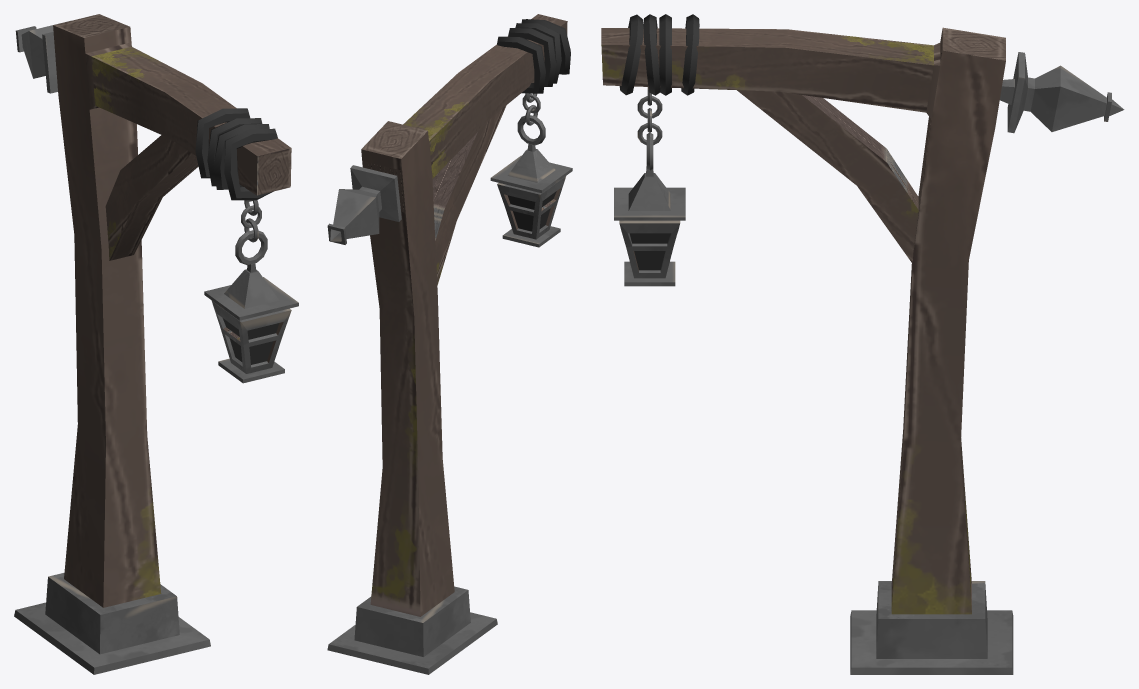
Rendered from SM_LanternPole.fbx.
3 renders of one model, left to right at view 1: azimuth 30°, elevation 25°; view 2: azimuth 150°, elevation 25°; view 3: azimuth 270°, elevation 25°, orthographic. The views are drawn at different scales.
Visible parts, largest first — view 1: Circle001, Circle005, Object370; view 2: Circle001, Circle005, Object370; view 3: Circle001, Circle005, Object370.
Part boxes in pixels (<box>): Circle001: <box>14,14,298,674</box>; Circle005: <box>195,108,277,200</box>; Object370: <box>222,318,279,364</box>; Circle001: <box>327,14,572,674</box>; Circle005: <box>497,19,570,93</box>; Object370: <box>507,191,556,231</box>; Circle001: <box>601,27,1124,674</box>; Circle005: <box>619,14,699,95</box>; Object370: <box>629,233,670,270</box>.
Bounding box in the file's own units: 43.75 × 218 × 166.
